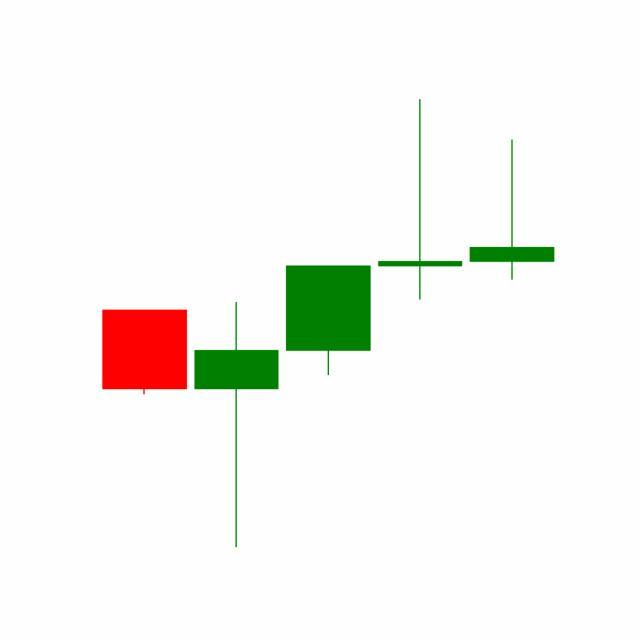Spinning Top: (466, 138, 559, 282)
